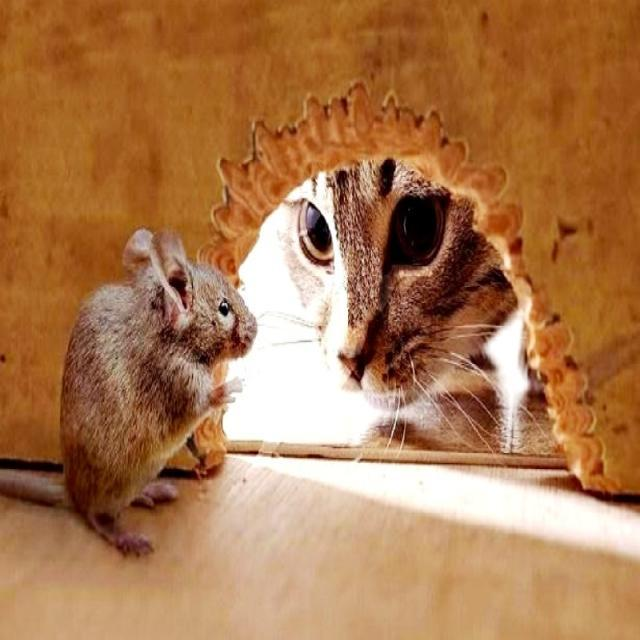Cats: (275, 174, 505, 416)
